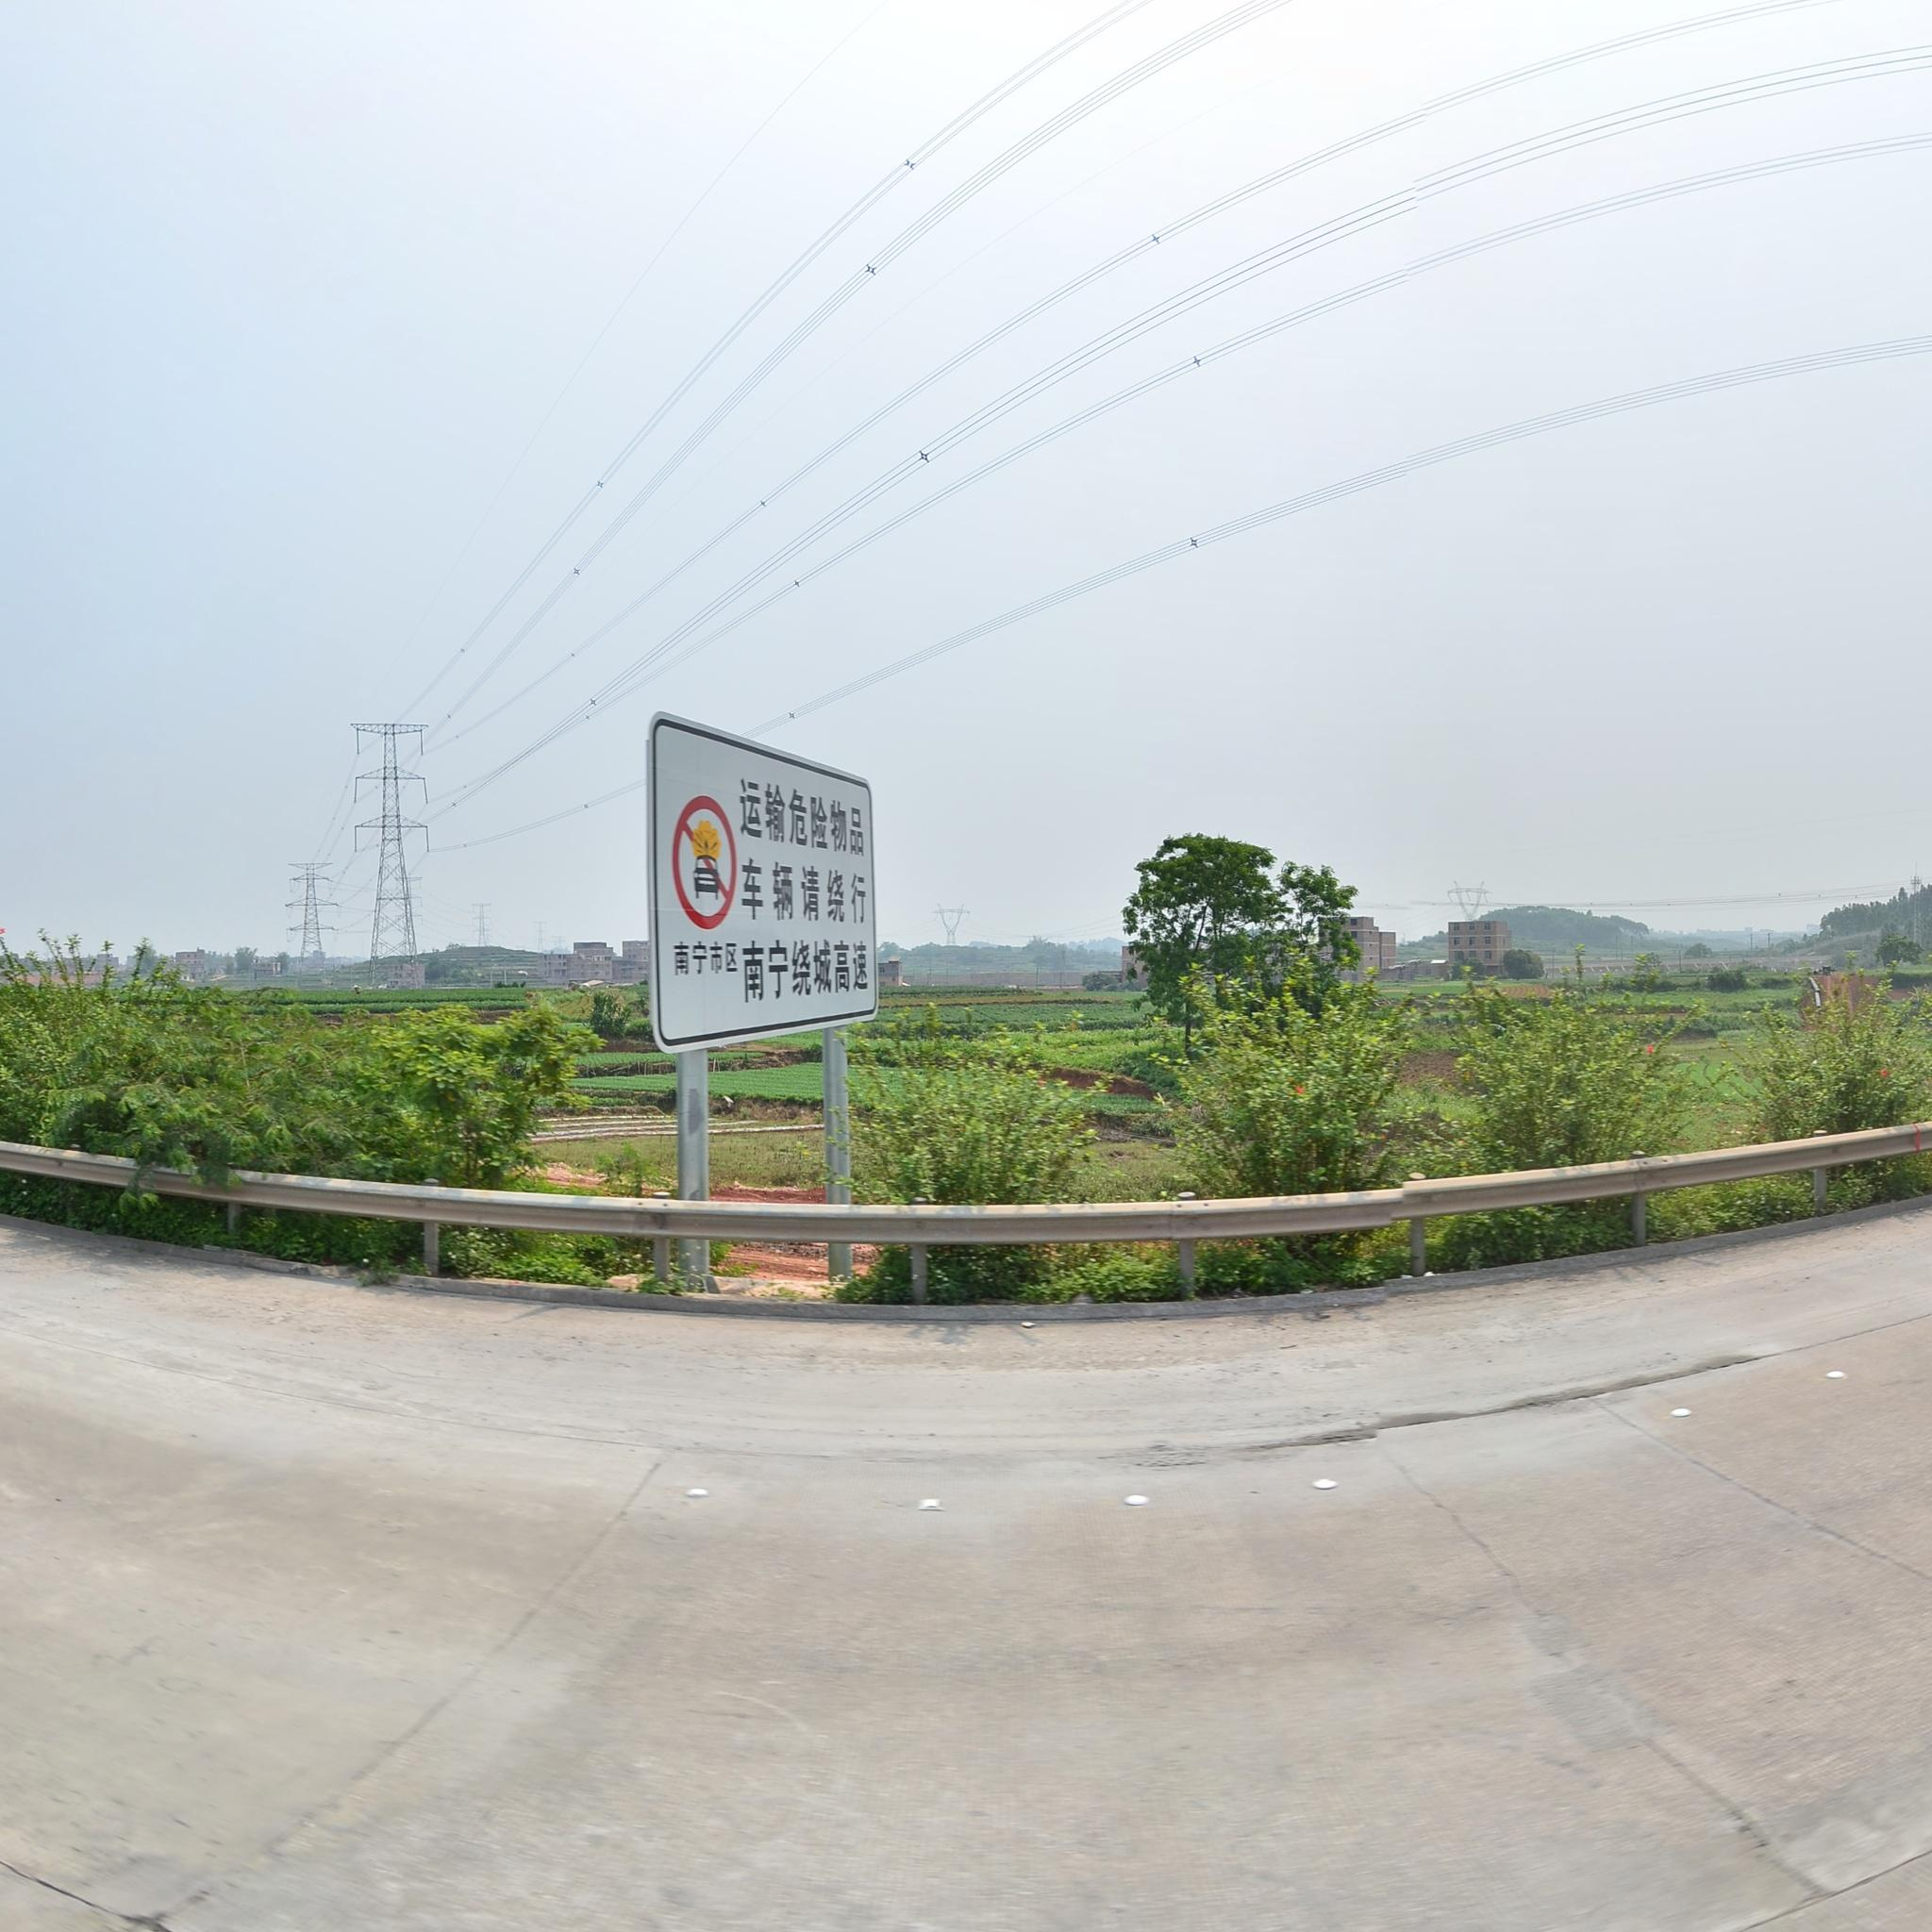p27: (672, 798, 736, 931)
